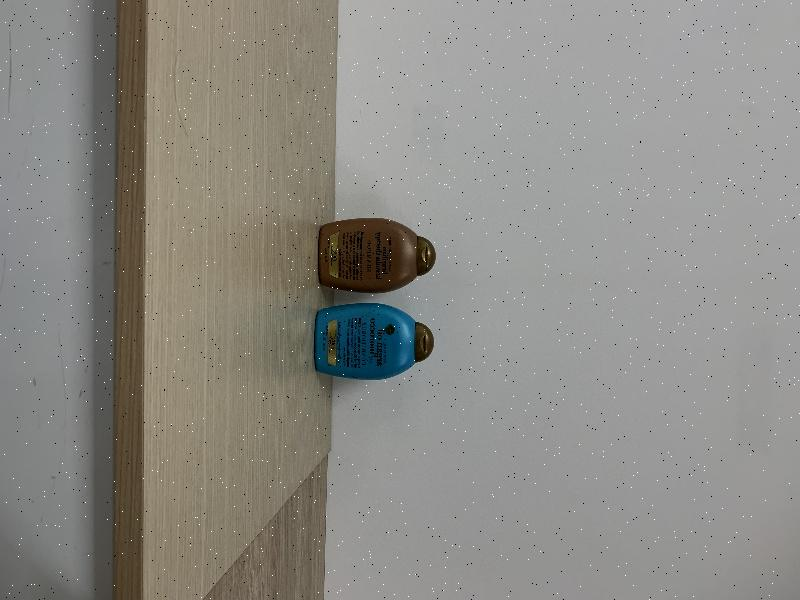ArganOilOfMorocco_Conditioner: (315, 304, 433, 380)
BrazilianKeratinTherapy_Shampoo: (318, 218, 436, 293)
